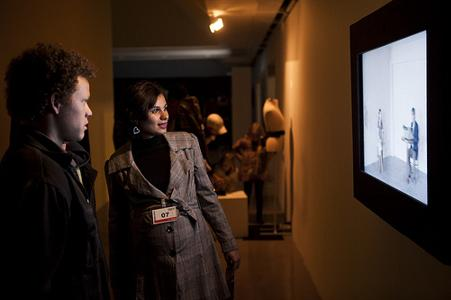person: (104, 83, 243, 300)
